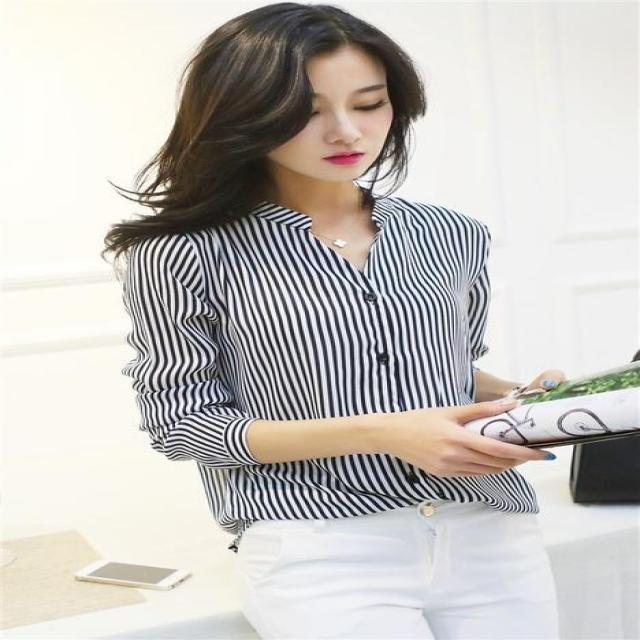long sleeve top: (133, 188, 536, 547)
trousers: (235, 494, 557, 636)
